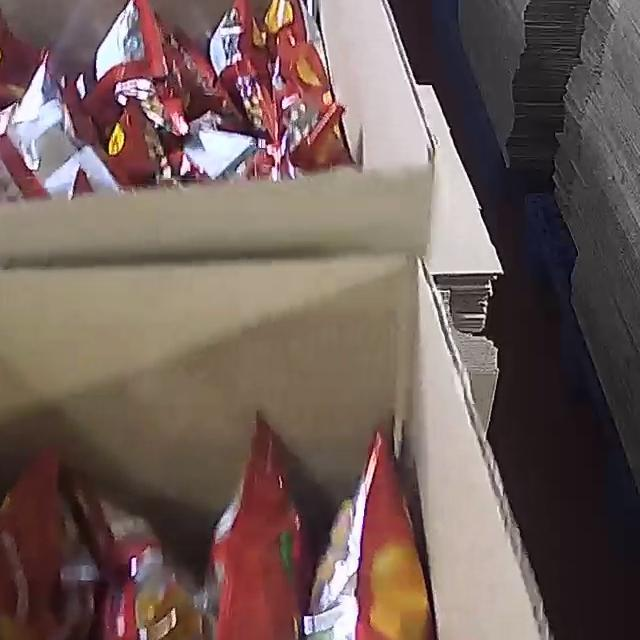masala: (0, 413, 457, 640), (0, 0, 357, 210)
